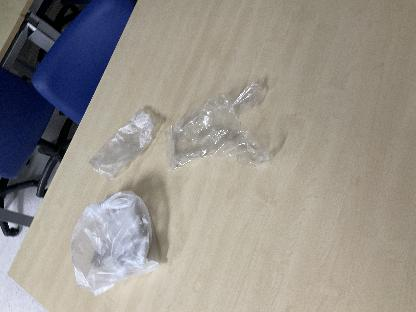Others: (54, 188, 174, 294), (158, 82, 282, 172), (86, 116, 160, 176)
